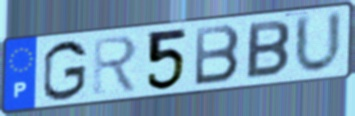5: (144, 26, 192, 92)
B: (193, 23, 243, 88), (243, 19, 292, 82)
G: (41, 38, 89, 103)
R: (91, 33, 140, 96)
U: (293, 9, 345, 77)
